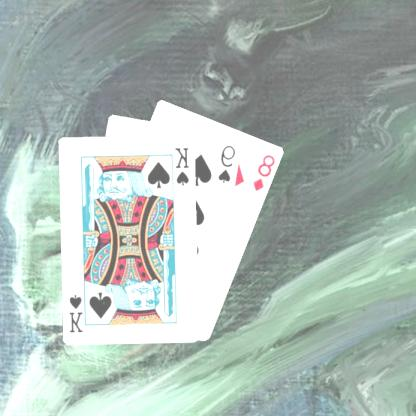8D: (251, 152, 278, 193)
9S: (218, 142, 239, 185)
KS: (68, 288, 90, 333), (174, 144, 192, 187)
